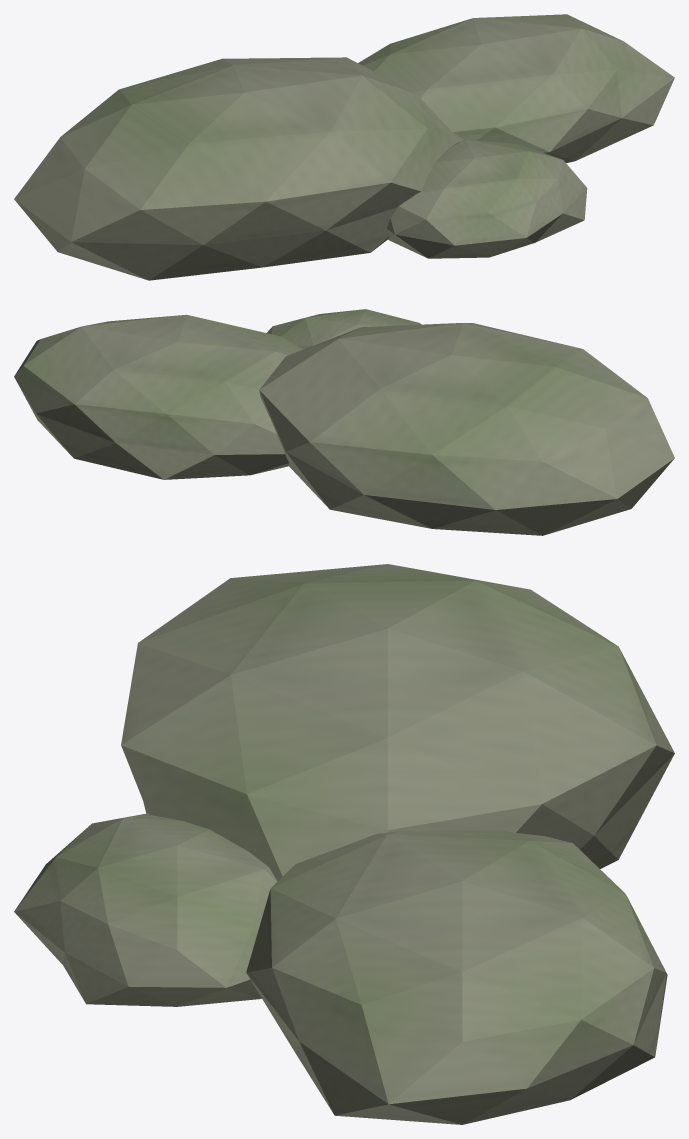
File: shore-rock-lod0.glb
3 views of the same model, one above another, from view 1: azimuth 30°, elevation 25°; view 2: azimuth 150°, elevation 25°; view 3: azimuth 270°, elevation 25° (orthographic). The views are drawn at different scales.
Bounding box in the file's own units: 0.4066 × 0.075 × 0.232.
Materials: 1 (1 with a texture image).
